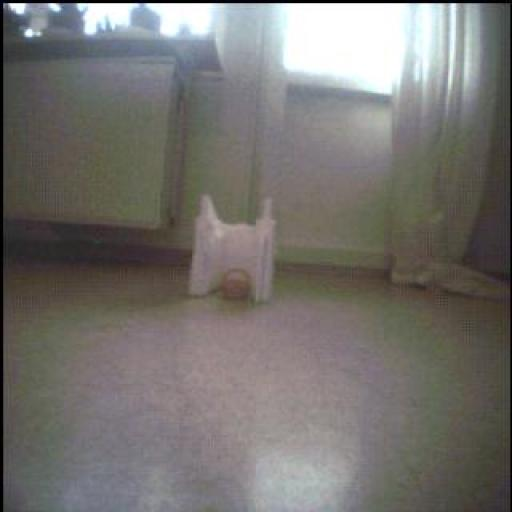Basket: (222, 270, 252, 300)
